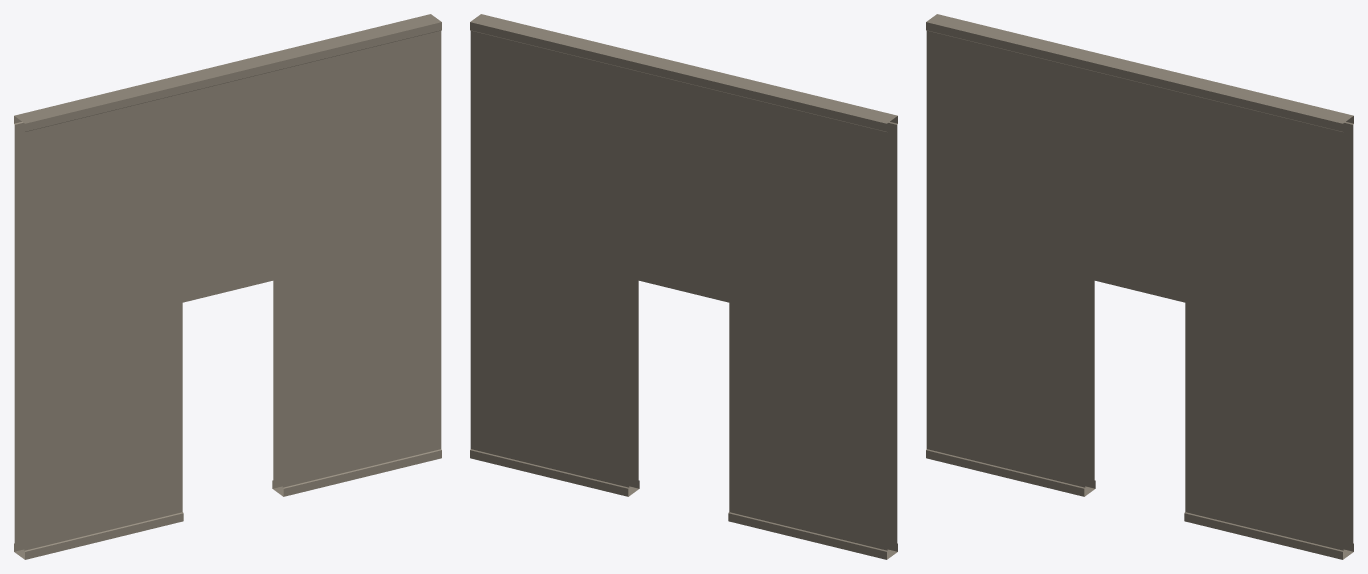
The model's file is Wall_5x5_SingleDoor.fbx.
3 views of the same model, side by side, from view 1: azimuth 30°, elevation 25°; view 2: azimuth 150°, elevation 25°; view 3: azimuth 330°, elevation 25° (orthographic).
Parts seen in each view (by area): view 1: Wall_5x5_SingleDoor; view 2: Wall_5x5_SingleDoor; view 3: Wall_5x5_SingleDoor.
Part boxes in pixels (box(x1,y1,x2,y2)): Wall_5x5_SingleDoor: box(14, 14, 441, 559); Wall_5x5_SingleDoor: box(470, 14, 897, 559); Wall_5x5_SingleDoor: box(926, 14, 1353, 559).
Size of the model in its own units: 5 by 5 by 0.23.
